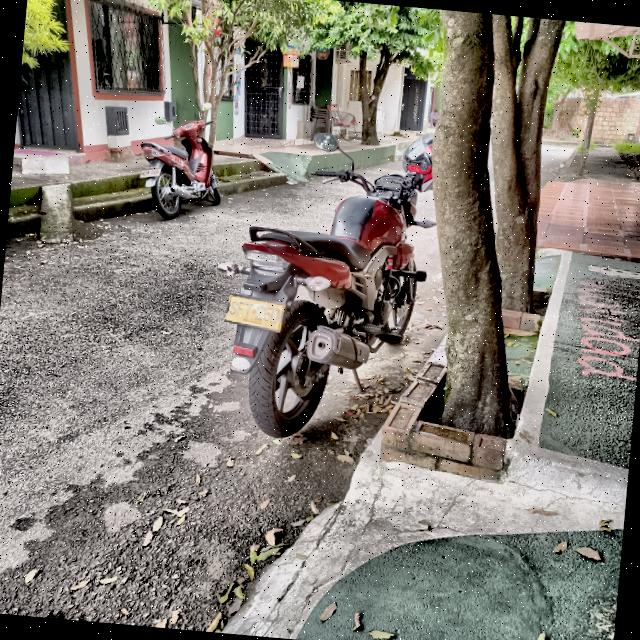2: (253, 303, 265, 321)
5: (262, 305, 273, 322)
D: (269, 306, 281, 323)
F: (235, 300, 246, 317)
S: (228, 298, 239, 315)
T: (242, 301, 255, 318)
